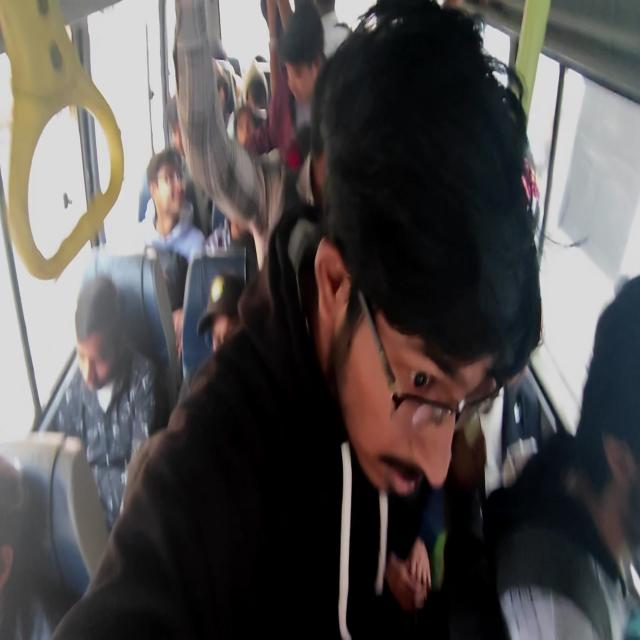person: (51, 1, 543, 638), (480, 274, 639, 638), (48, 272, 168, 533), (143, 146, 206, 358), (196, 272, 246, 353)
